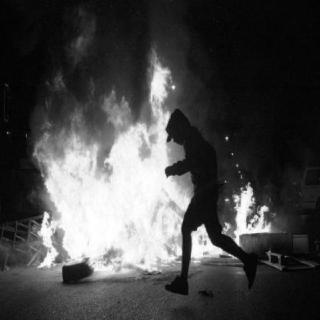Fire: (39, 56, 185, 286)
